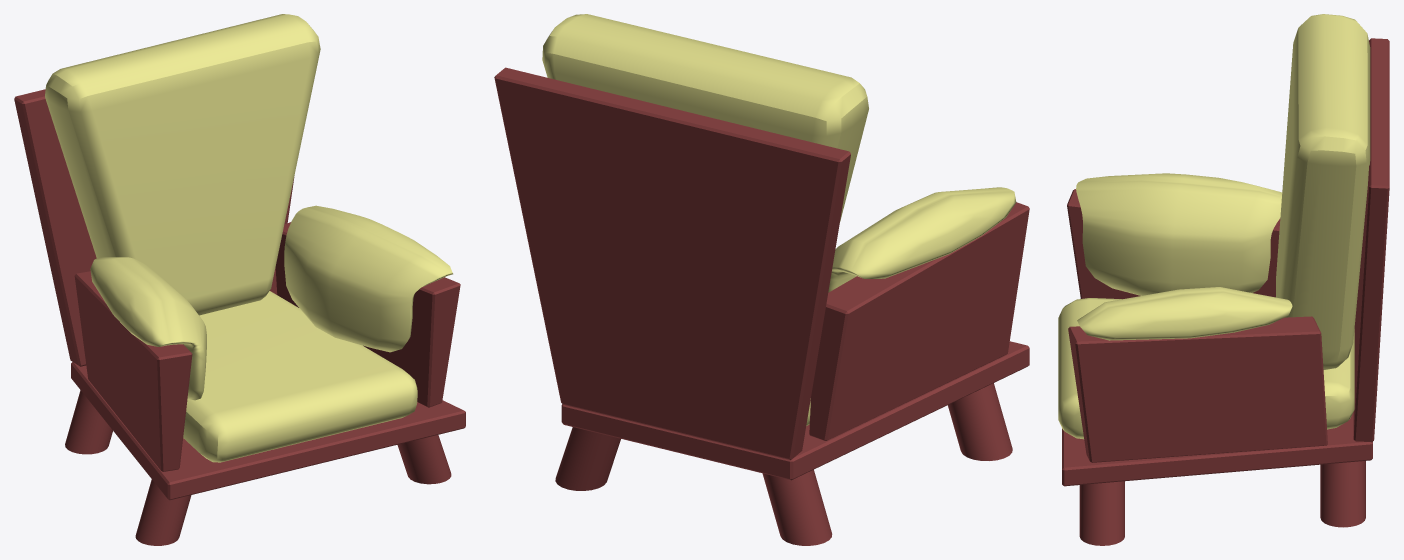
Rendered from Chair_sketch_fbx.fbx.
The picture shows the model from 3 angles, left to right: view 1: azimuth 30°, elevation 25°; view 2: azimuth 150°, elevation 25°; view 3: azimuth 270°, elevation 25°; orthographic projection. The views are drawn at different scales.
Parts seen in each view (by area): view 1: pCube6, pCube5, pCube10, polySurface7, polySurface4, polySurface1, pCube7, polySurface6, polySurface3, polySurface5, polySurface8; view 2: polySurface1, polySurface7, pCube6, polySurface4, pCube7, polySurface8, polySurface3, polySurface2; view 3: polySurface6, pCube6, pCube7, polySurface1, pCube10, polySurface4, pCube5, polySurface2, polySurface5, polySurface7.
Boxes of the visible parts, bbox=[...] form: pCube6: bbox=[45, 14, 320, 315]; pCube5: bbox=[183, 291, 417, 462]; pCube10: bbox=[284, 205, 452, 352]; polySurface7: bbox=[74, 271, 192, 471]; polySurface4: bbox=[71, 362, 465, 500]; polySurface1: bbox=[14, 89, 294, 366]; pCube7: bbox=[90, 257, 206, 400]; polySurface6: bbox=[275, 222, 460, 407]; polySurface3: bbox=[135, 479, 191, 545]; polySurface5: bbox=[397, 435, 451, 484]; polySurface8: bbox=[65, 390, 112, 454]; polySurface1: bbox=[494, 67, 850, 459]; polySurface7: bbox=[809, 202, 1029, 440]; pCube6: bbox=[542, 14, 868, 221]; polySurface4: bbox=[561, 341, 1029, 480]; pCube7: bbox=[828, 187, 1016, 292]; polySurface8: bbox=[762, 469, 832, 545]; polySurface3: bbox=[947, 383, 1012, 460]; polySurface2: bbox=[555, 427, 620, 490]; polySurface6: bbox=[1068, 316, 1327, 462]; pCube6: bbox=[1276, 14, 1370, 369]; pCube7: bbox=[1076, 173, 1282, 295]; polySurface1: bbox=[1353, 38, 1389, 442]; pCube10: bbox=[1077, 287, 1292, 340]; polySurface4: bbox=[1062, 412, 1372, 486]; pCube5: bbox=[1058, 298, 1354, 439]; polySurface2: bbox=[1320, 461, 1365, 527]; polySurface5: bbox=[1079, 481, 1124, 545]; polySurface7: bbox=[1067, 189, 1280, 299].
Bounding box in the file's own units: 94.06 × 112 × 85.27.
